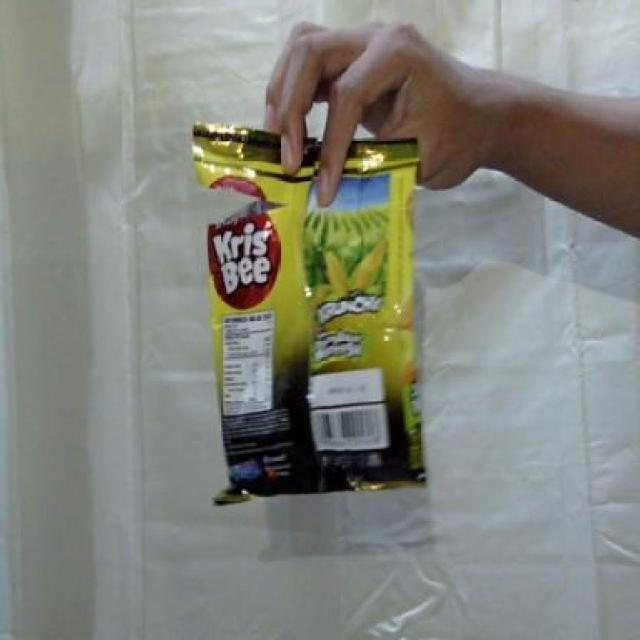Plastic: (192, 120, 430, 507)
